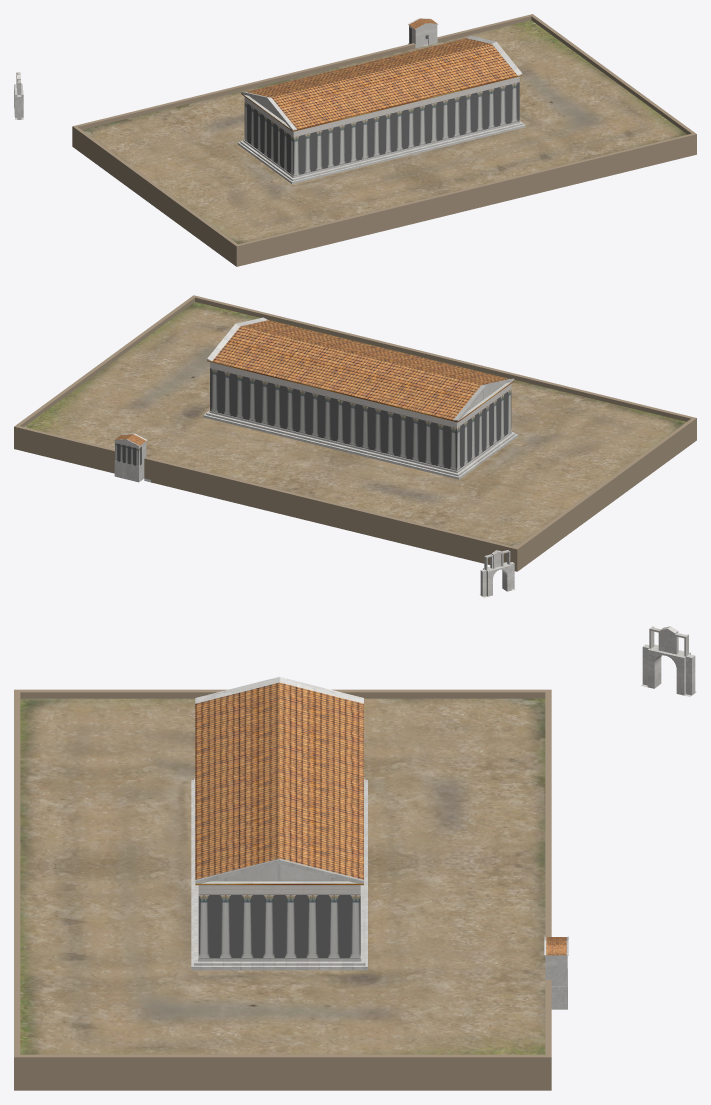
Rendered from olympieionLow.fbx.
3 renders of one model, top to bottom at view 1: azimuth 30°, elevation 25°; view 2: azimuth 150°, elevation 25°; view 3: azimuth 270°, elevation 25°, orthographic. The views are drawn at different scales.
Visible parts, largest first — view 1: Group1, Group3, Group2; view 2: Group1, Group3, Group2; view 3: Group1, Group3, Group2.
Boxes of the visible parts, x1=… form: Group1: x1=72, y1=14, x2=696, y2=266; Group3: x1=238, y1=36, x2=525, y2=183; Group2: x1=14, y1=72, x2=23, y2=119; Group1: x1=14, y1=295, x2=696, y2=571; Group3: x1=203, y1=317, x2=518, y2=479; Group2: x1=479, y1=550, x2=515, y2=597; Group1: x1=14, y1=689, x2=568, y2=1090; Group3: x1=191, y1=676, x2=367, y2=970; Group2: x1=641, y1=626, x2=696, y2=696.
Bounding box in the file's own units: 223121 × 36126 × 165119.
